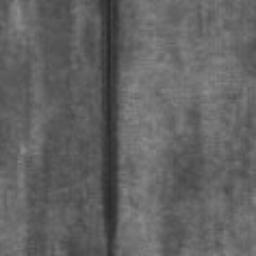Scratches: (101, 0, 117, 256)
